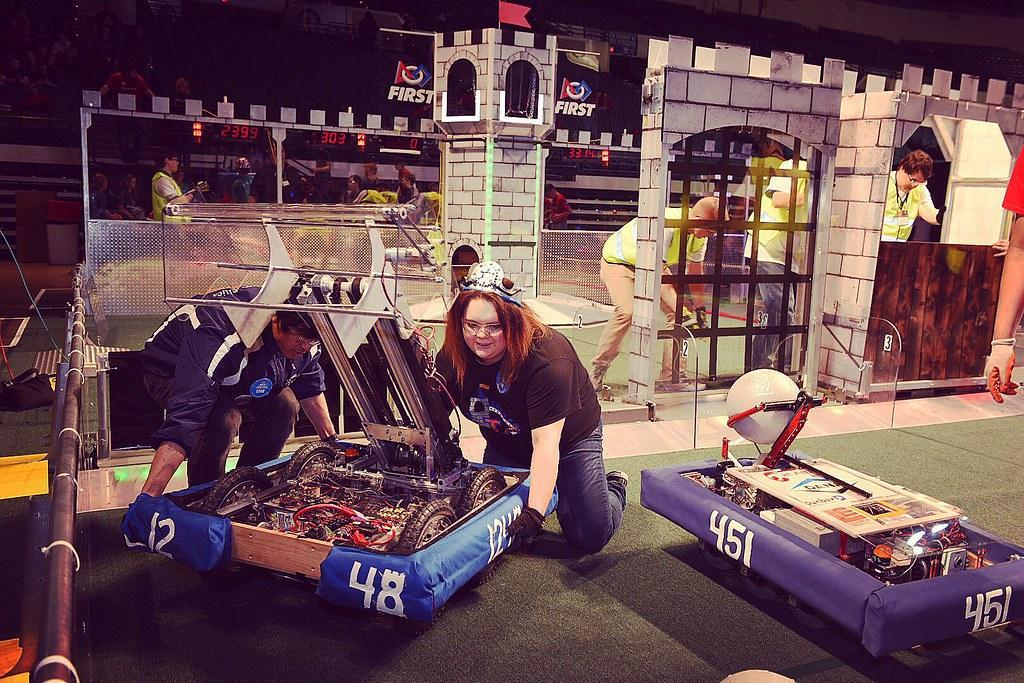robot: (116, 186, 568, 631), (630, 344, 1024, 667)
